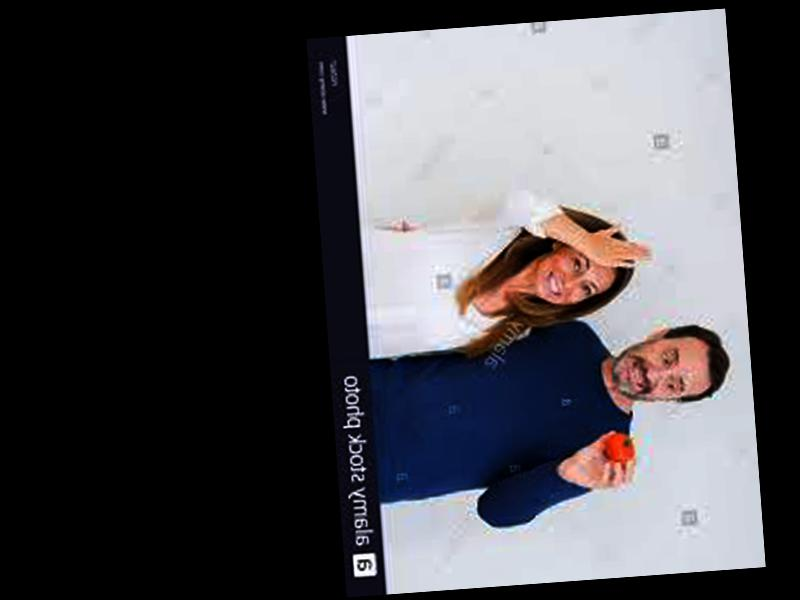Tomato: (605, 432, 637, 462)
